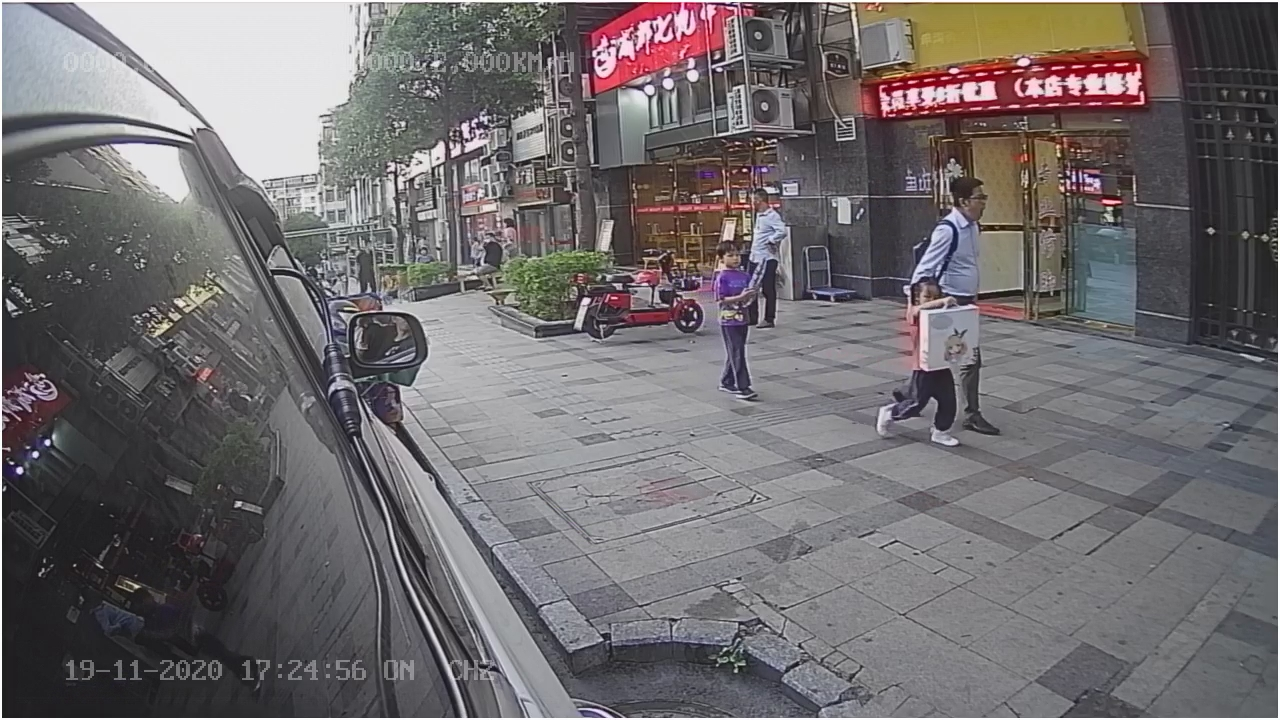person: (712, 241, 768, 404), (927, 171, 994, 286)
